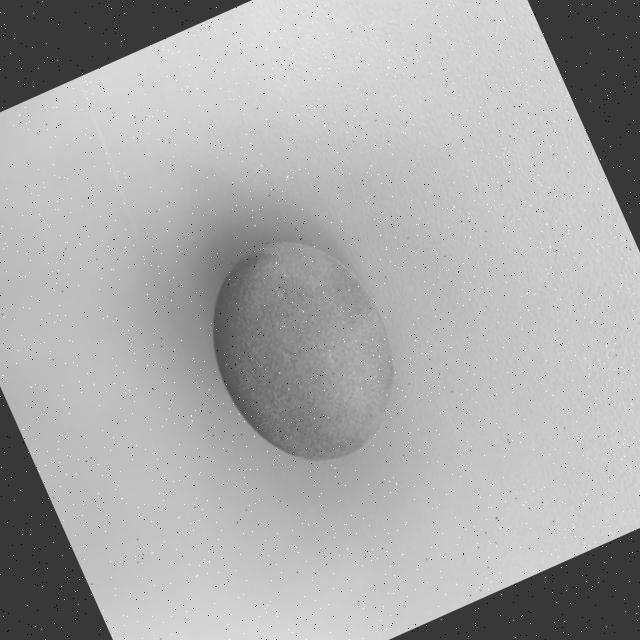ping-pong-ball: (178, 211, 436, 493)
